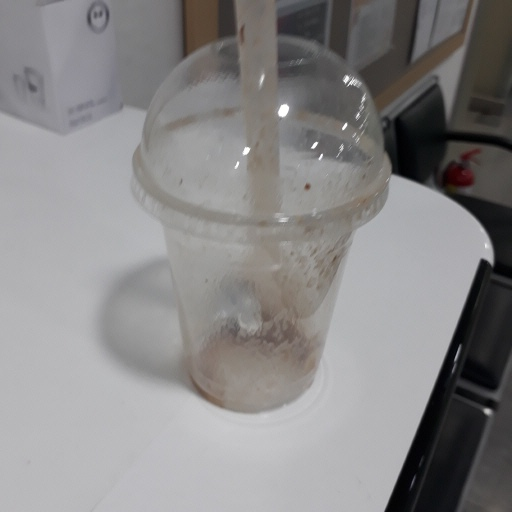Plastic_2: (135, 7, 392, 417)
